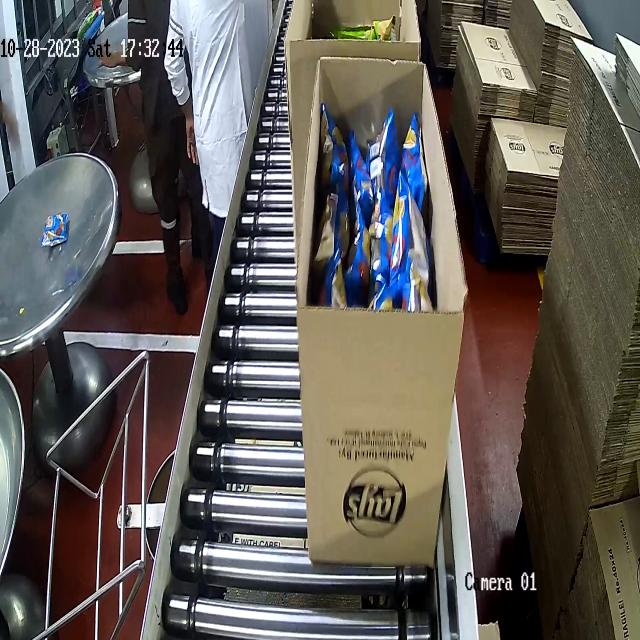PAPRIKA: (314, 103, 437, 327)
